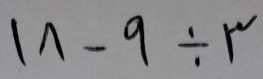character: (124, 15, 165, 73), (223, 14, 263, 66), (178, 26, 216, 74), (39, 21, 70, 69), (11, 17, 34, 72), (83, 45, 109, 59)
